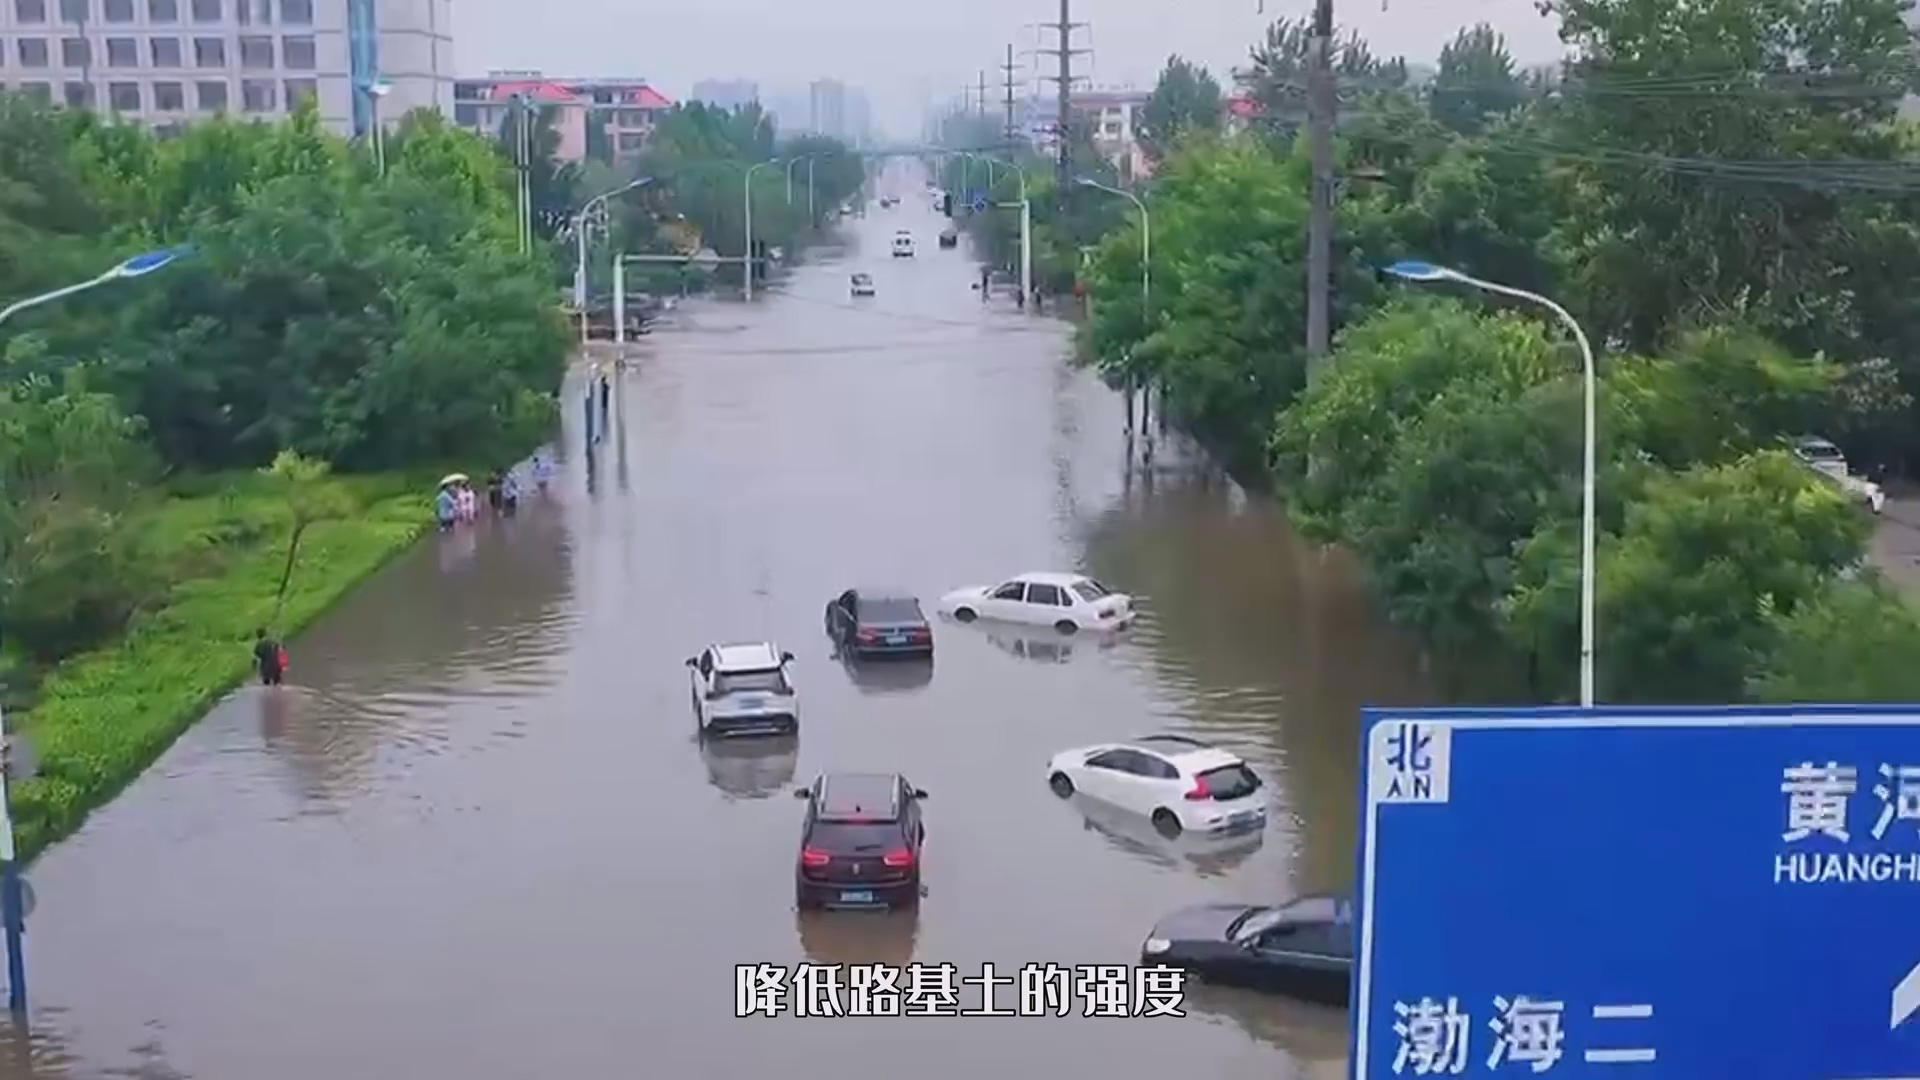puddle: (66, 393, 1377, 1080)
